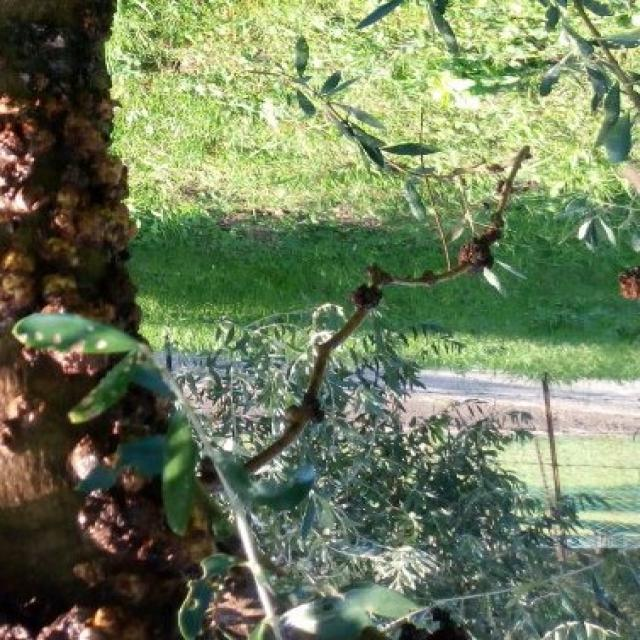Tuberculosis: (0, 0, 139, 329), (458, 210, 505, 272), (355, 284, 383, 308)
